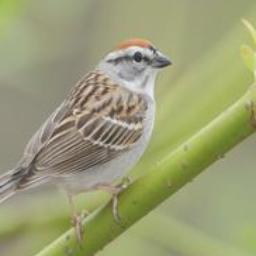Sparrow: (0, 37, 176, 248)
